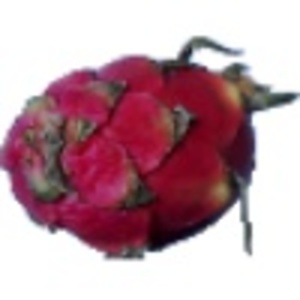pitaia: (1, 37, 300, 262)
